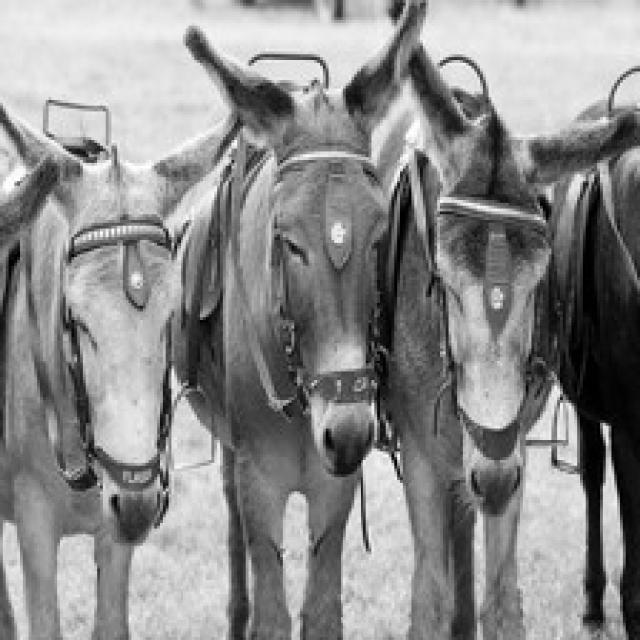Donkey: (374, 0, 637, 637), (168, 0, 428, 637), (0, 89, 243, 637), (543, 92, 637, 637), (0, 89, 63, 637)
